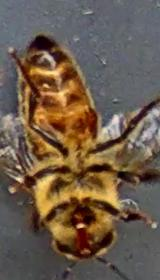varroa_mite: (76, 103, 104, 142)
